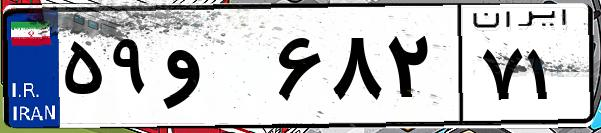1: (525, 38, 570, 115)
2: (385, 28, 445, 110)
5: (57, 26, 110, 100)
6: (270, 28, 330, 110)
7: (475, 38, 525, 113)
8: (330, 28, 385, 110)
9: (110, 28, 158, 98)
و: (158, 20, 270, 120)
